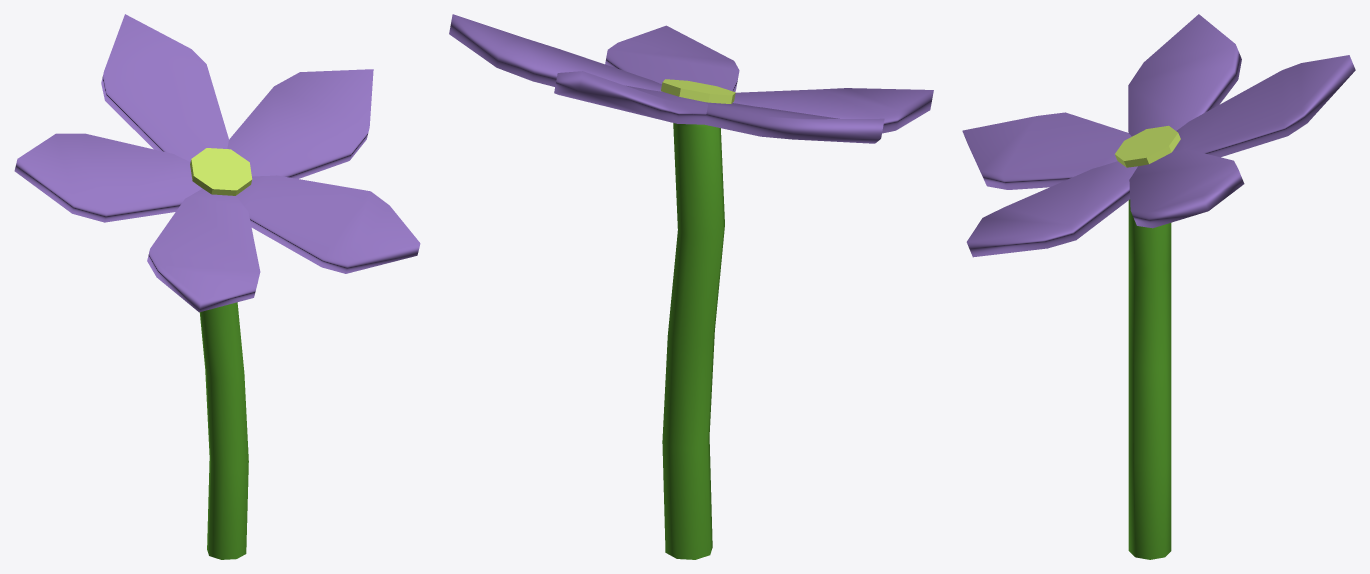
The model's file is Flower_Purple_4.fbx.
The picture shows the model from 3 angles, left to right: view 1: azimuth 30°, elevation 25°; view 2: azimuth 150°, elevation 25°; view 3: azimuth 270°, elevation 25°; orthographic projection. The views are drawn at different scales.
Parts seen in each view (by area): view 1: Cube.107, Cylinder.636, Cylinder.638; view 2: Cube.107, Cylinder.636, Cylinder.638; view 3: Cube.107, Cylinder.636, Cylinder.638.
Part boxes in pixels (x1=…): Cube.107: x1=14, y1=14, x2=420, y2=312; Cylinder.636: x1=199, y1=302, x2=248, y2=559; Cylinder.638: x1=190, y1=148, x2=252, y2=195; Cube.107: x1=449, y1=14, x2=933, y2=143; Cylinder.636: x1=662, y1=123, x2=724, y2=559; Cylinder.638: x1=661, y1=79, x2=735, y2=103; Cube.107: x1=962, y1=14, x2=1355, y2=257; Cylinder.636: x1=1128, y1=199, x2=1171, y2=559; Cylinder.638: x1=1115, y1=125, x2=1180, y2=167.
Bounding box in the file's own units: 71.56 × 89.76 × 64.99.
